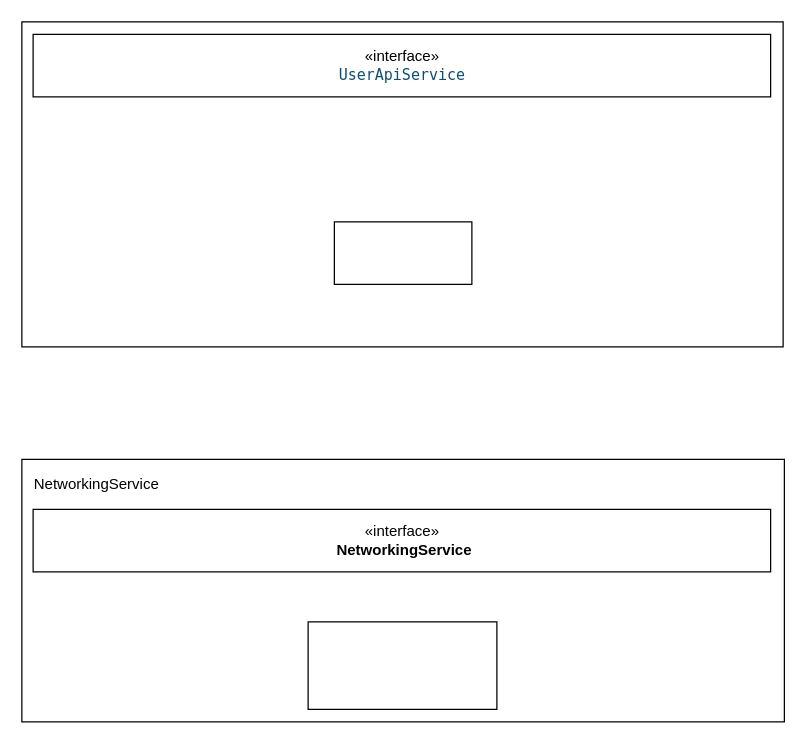
The diagram is 806 pixels wide and 744 high, and some of its shapes have lost their labels. The shapes that lost their labels are listed below. From the top down, each one's centre as x and y in pixels, then its label:
At [402,252]: "UserApiRemote".
At [402,665]: "RestManager".
